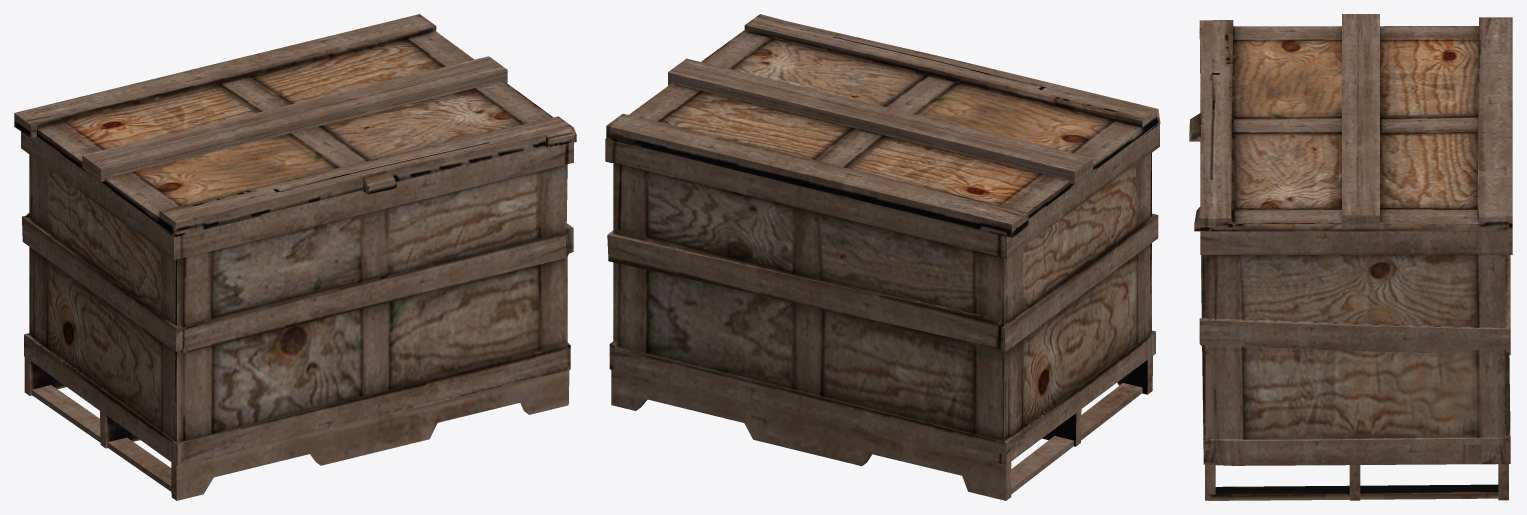
The model's file is Crate_wood03.FBX.
3 renders of one model, left to right at view 1: azimuth 30°, elevation 25°; view 2: azimuth 150°, elevation 25°; view 3: azimuth 270°, elevation 25°, orthographic.
Visible parts, largest first — view 1: Crate_wood03; view 2: Crate_wood03; view 3: Crate_wood03.
Part boxes in pixels (x1,y1,x2,y2): Crate_wood03: (14,14,576,500); Crate_wood03: (605,14,1160,500); Crate_wood03: (1189,14,1512,500).
Bounding box in the file's own units: 1.73 × 1.15 × 1.17.
